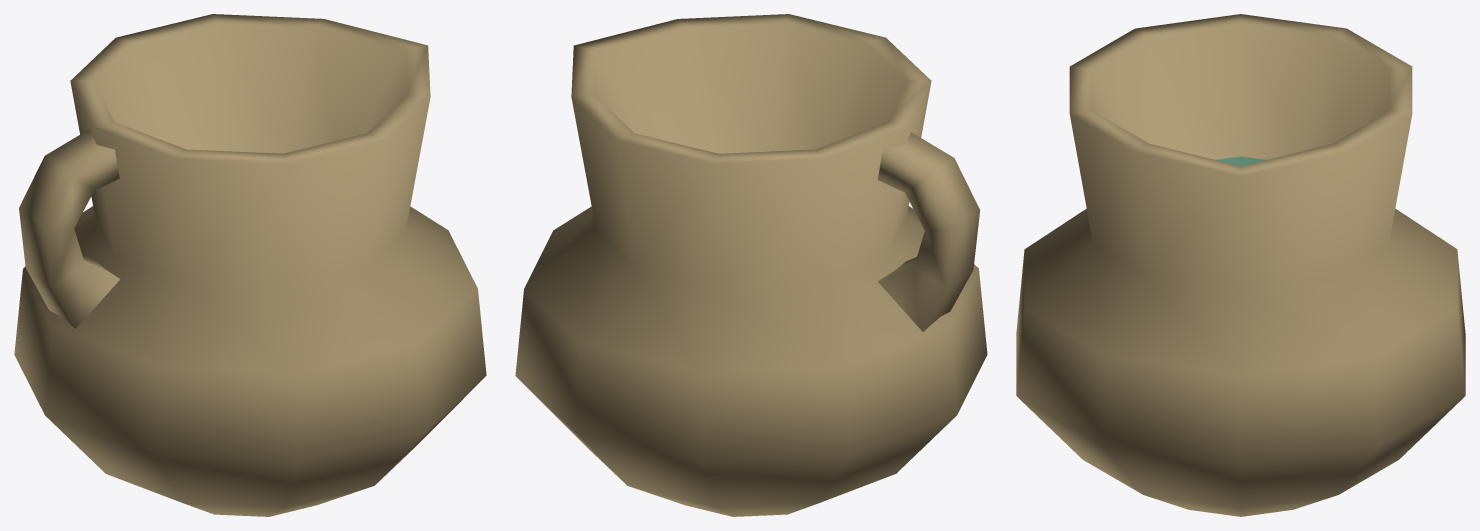
The model's file is rpgpp_ag_jug_01b.fbx.
The picture shows the model from 3 angles, left to right: view 1: azimuth 30°, elevation 25°; view 2: azimuth 150°, elevation 25°; view 3: azimuth 270°, elevation 25°; orthographic projection.
Parts seen in each view (by area): view 1: rpgpp_ag_jug_01b; view 2: rpgpp_ag_jug_01b; view 3: rpgpp_ag_jug_01b.
Part boxes in pixels (x1=…): rpgpp_ag_jug_01b: x1=14, y1=14, x2=486, y2=516; rpgpp_ag_jug_01b: x1=515, y1=14, x2=987, y2=516; rpgpp_ag_jug_01b: x1=1016, y1=14, x2=1465, y2=516.
Size of the model in its own units: 0.3345 by 0.2961 by 0.3098.
